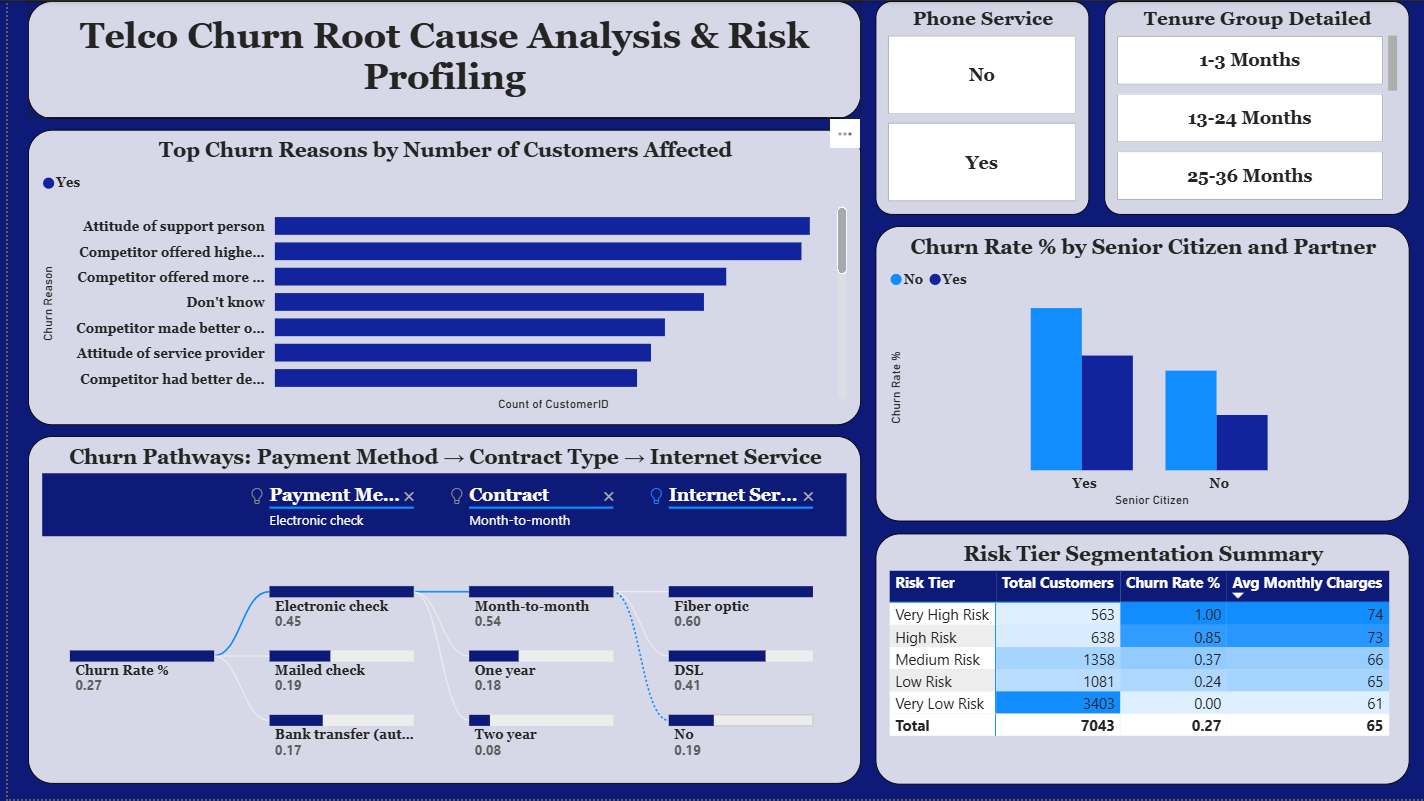

The dashboard page shown, as its layout file describes it:
{"tool":"powerbi","page":{"name":"Root Cause","canvas":[1280,720],"ordinal":2},"visuals":[{"type":"decompositionTreeVisual","title":"Churn Pathways: Payment Method → Contract Type → Internet Service","fields":{"Analyze":["Telco_customer_churn.Churn Rate %"],"ExplainBy":["Telco_customer_churn.Payment Method","Telco_customer_churn.Contract","Telco_customer_churn.Internet Service"]},"box":[17.5,392.5,751.2,313.8],"z":0},{"type":"clusteredBarChart","title":"Top Churn Reasons by Number of Customers Affected","fields":{"Category":["Telco_customer_churn.Churn Reason"],"Y":["CountNonNull(Telco_customer_churn.CustomerID)"],"Series":["Telco_customer_churn.Churn Label"]},"box":[17.5,116.2,751.2,266.2],"z":1000},{"type":"clusteredColumnChart","fields":{"Category":["Telco_customer_churn.Senior Citizen"],"Series":["Telco_customer_churn.Partner"],"Y":["Telco_customer_churn.Churn Rate %"]},"box":[782.5,202.5,481.2,266.2],"z":2000},{"type":"pivotTable","title":"Risk Tier Segmentation Summary","fields":{"Rows":["Telco_customer_churn.Risk Tier"],"Values":["Telco_customer_churn.Total Customers","Telco_customer_churn.Churn Rate %","Telco_customer_churn.Avg Monthly Charges"]},"box":[782.5,480,481.2,226.2],"z":3000},{"type":"advancedSlicerVisual","fields":{"Values":["Telco_customer_churn.Tenure Group Detailed"]},"box":[988.8,0,275,192.5],"z":4000},{"type":"advancedSlicerVisual","fields":{"Values":["Telco_customer_churn.Phone Service"]},"box":[782.5,0,192.5,192.5],"z":5000},{"type":"textbox","box":[17.5,0,751.2,106.2],"z":6000}]}

Visuals, with their boxes in screenshot pixels (x1, y1, x2, y2), scaled from the page's 1280x720 canvas onto the 1424x801 screenshot:
"Churn Pathways: Payment Method → Contract Type → Internet Service" decompositionTreeVisual: <region>19, 437, 855, 786</region>
"Top Churn Reasons by Number of Customers Affected" clusteredBarChart: <region>19, 129, 855, 425</region>
clusteredColumnChart - Telco_customer_churn.Senior Citizen x Telco_customer_churn.Partner: <region>871, 225, 1406, 521</region>
"Risk Tier Segmentation Summary" pivotTable: <region>871, 534, 1406, 786</region>
advancedSlicerVisual - Telco_customer_churn.Tenure Group Detailed: <region>1100, 0, 1406, 214</region>
advancedSlicerVisual - Telco_customer_churn.Phone Service: <region>871, 0, 1085, 214</region>
textbox: <region>19, 0, 855, 118</region>
